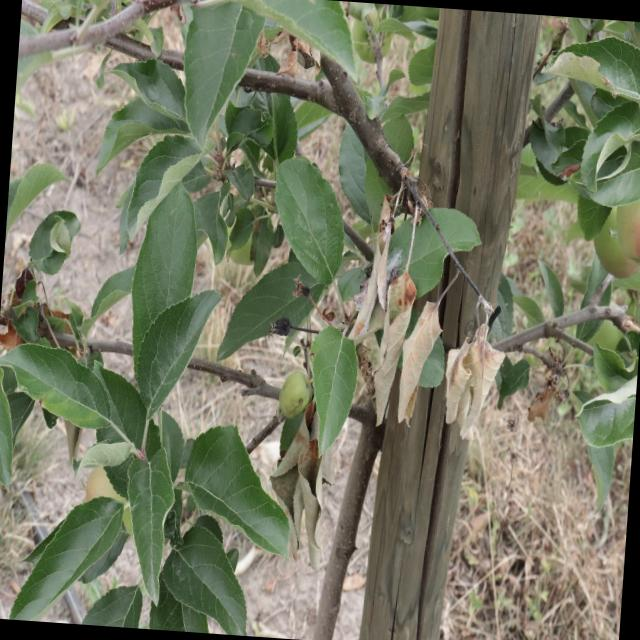-FireBlight-: (359, 205, 511, 436)
